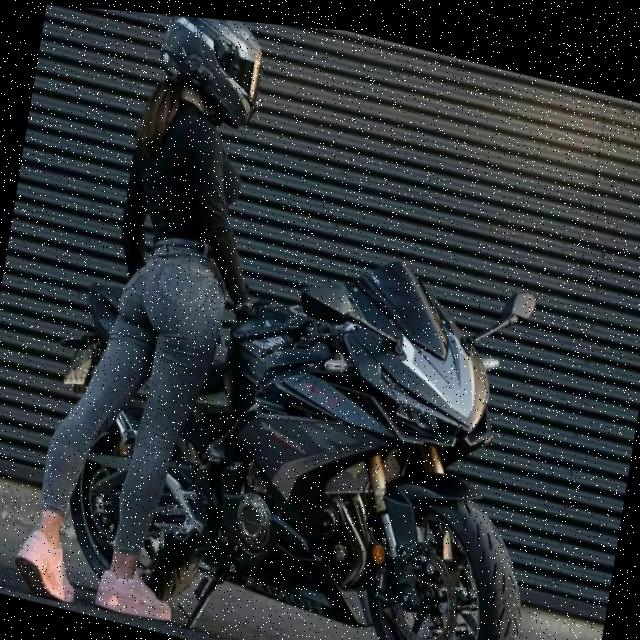helmet: (142, 10, 280, 137)
